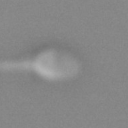normal: (1, 47, 35, 87)
